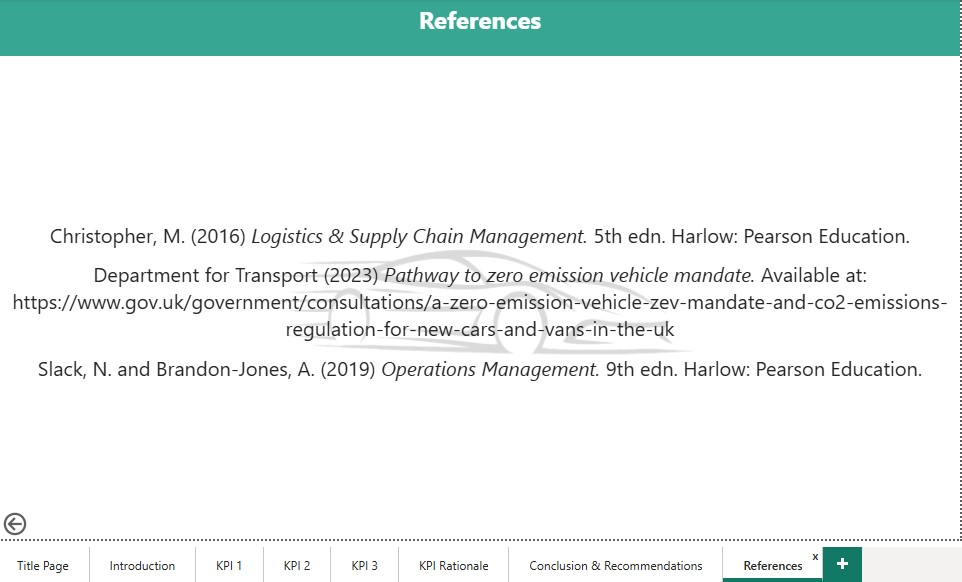

What the dashboard file says about the page in this screenshot:
{"tool":"powerbi","page":{"name":"References","canvas":[1280,720],"ordinal":7},"visuals":[{"type":"image","box":[0,76,1280,644],"z":0},{"type":"textbox","box":[0,290.7,1280,265.3],"z":1000},{"type":"textbox","box":[0,0,1280,75.6],"z":2000},{"type":"actionButton","box":[0,679.9,60.6,39.9],"z":3000}]}

Visuals, with their boxes on the page's 1280x720 design canvas (x1, y1, x2, y2). These are canvas units, not pixel positions in the 962x582 screenshot, which may show the page scaled, cropped or inside an application window:
image: <box>0,76,1280,720</box>
textbox: <box>0,291,1280,556</box>
textbox: <box>0,0,1280,76</box>
actionButton: <box>0,680,61,720</box>
